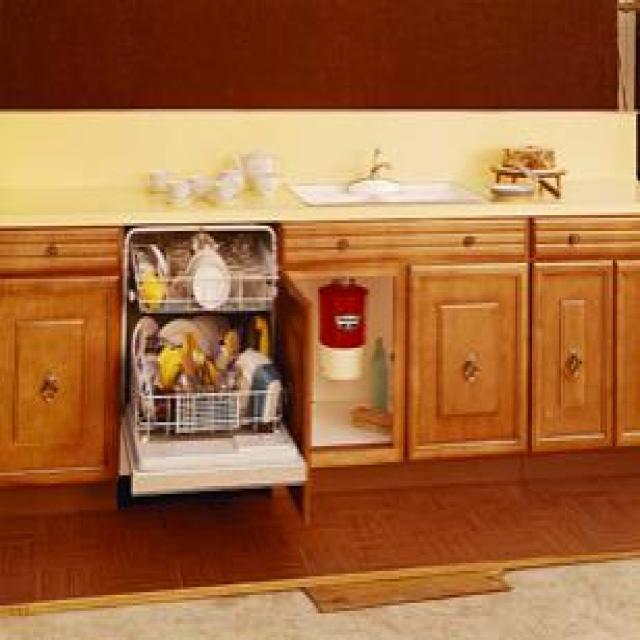dishwasher: (118, 220, 306, 497)
